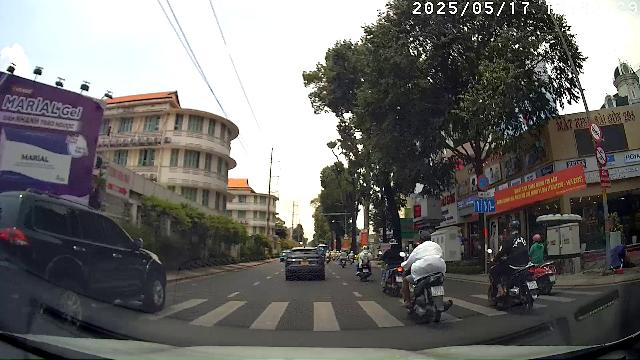128-cam-su-dung-coi: (589, 121, 603, 142)
